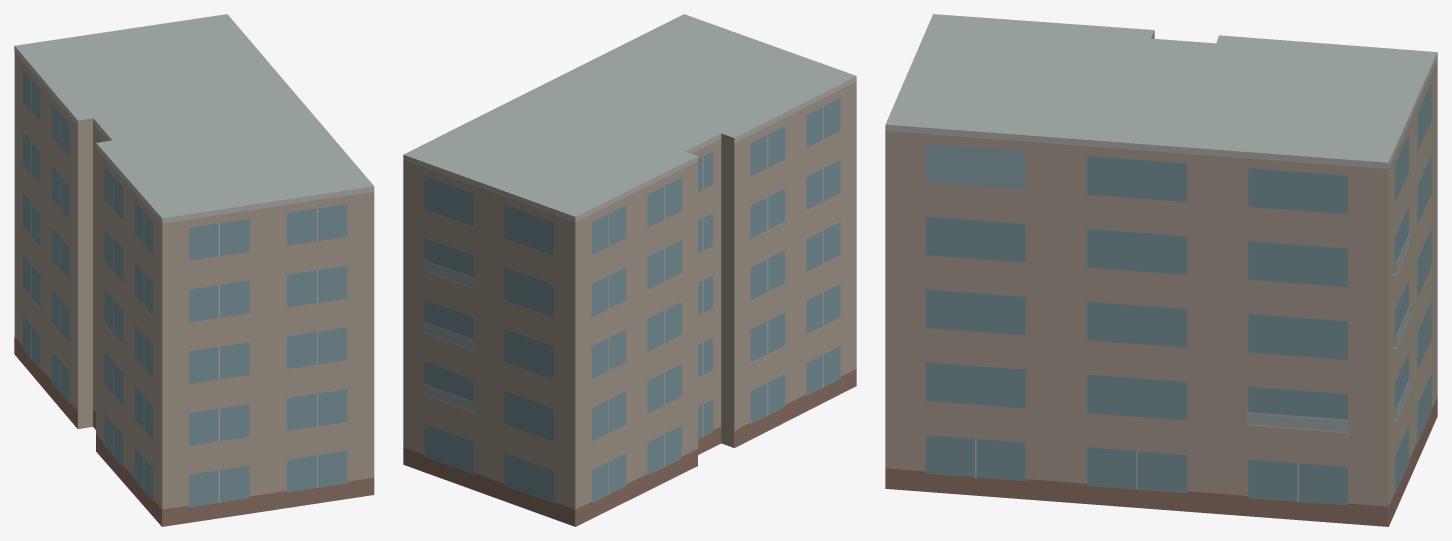
Rendered from survey-upis-32669488.glb.
3 renders of one model, left to right at view 1: azimuth 30°, elevation 25°; view 2: azimuth 150°, elevation 25°; view 3: azimuth 270°, elevation 25°, orthographic. The views are drawn at different scales.
Parts seen in each view (by area): view 1: survey-upis-32669488.tmp; view 2: survey-upis-32669488.tmp; view 3: survey-upis-32669488.tmp.
Boxes of the visible parts, box(x1,y1,x2,y2) form: survey-upis-32669488.tmp: box(14, 14, 374, 526); survey-upis-32669488.tmp: box(403, 14, 856, 526); survey-upis-32669488.tmp: box(885, 14, 1437, 526).
Size of the model in its own units: 12.32 by 14.05 by 19.32.
